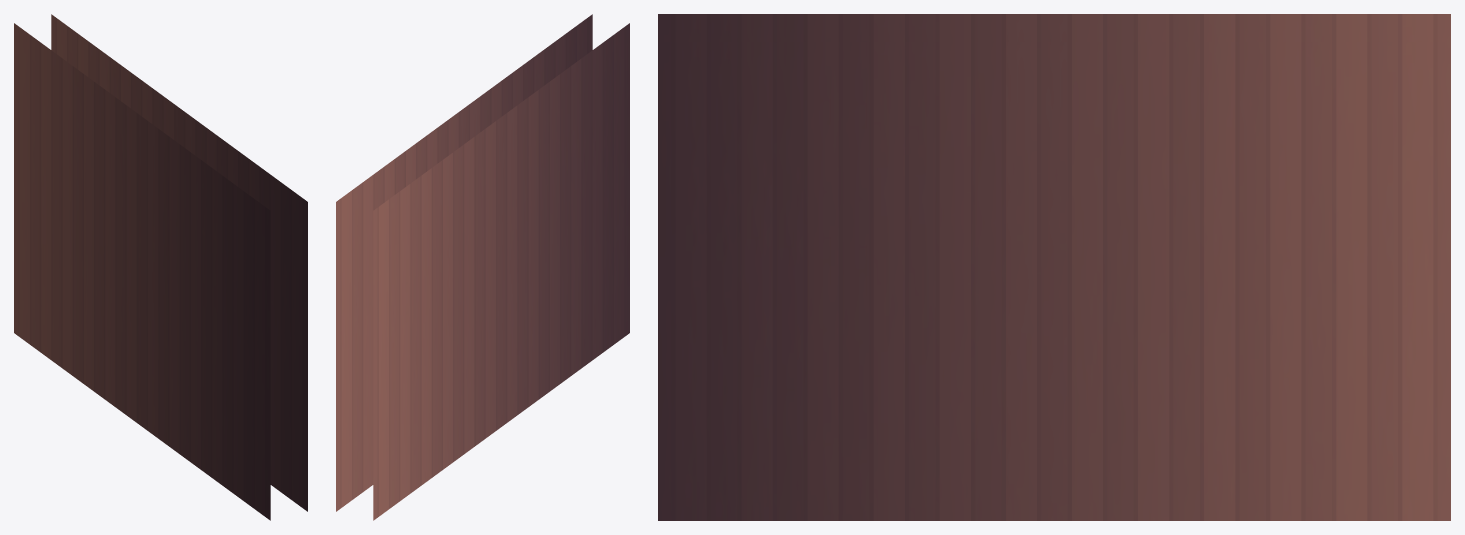
Rendered from SM_SideWallBlock_Lvl2.fbx.
3 renders of one model, left to right at view 1: azimuth 30°, elevation 25°; view 2: azimuth 150°, elevation 25°; view 3: azimuth 270°, elevation 25°, orthographic. The views are drawn at different scales.
Visible parts, largest first — view 1: Base_sideNew; view 2: Base_sideNew; view 3: Base_sideNew.
Boxes of the visible parts, x1=… form: Base_sideNew: x1=14, y1=14, x2=307, y2=520; Base_sideNew: x1=336, y1=14, x2=629, y2=520; Base_sideNew: x1=658, y1=14, x2=1450, y2=520.
Bounding box in the file's own units: 100 × 1200 × 800.
